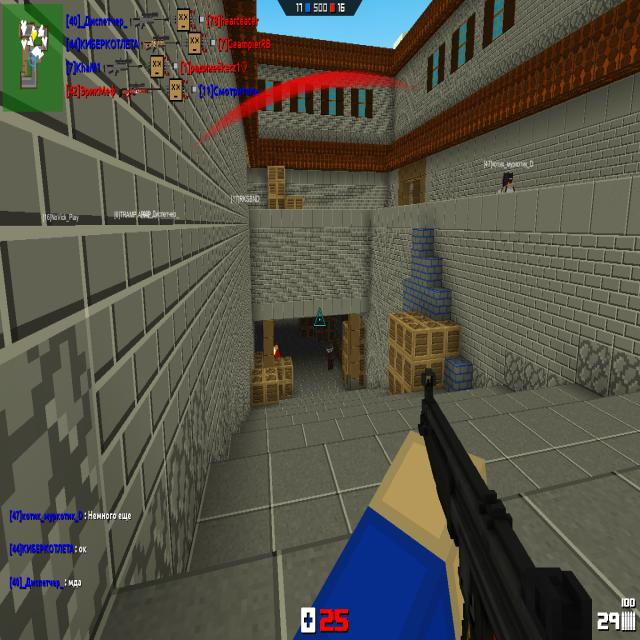enemy: (326, 343, 334, 372), (274, 341, 282, 358)
